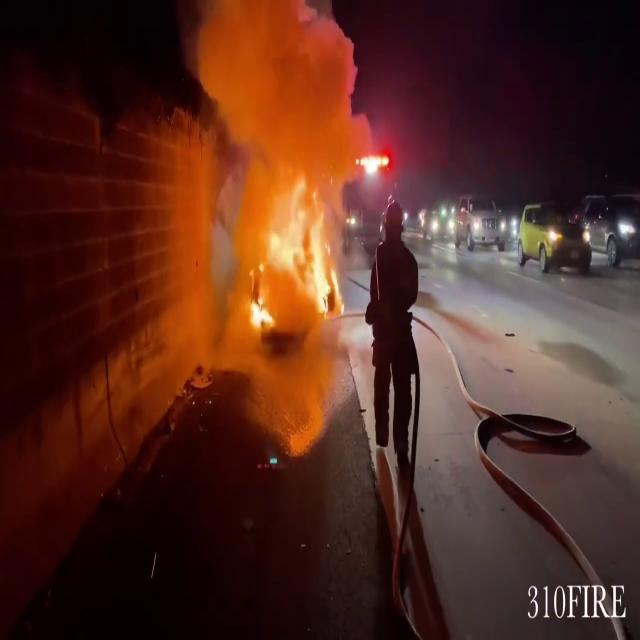Fire: (243, 176, 344, 336), (357, 144, 392, 182)
Smoke: (188, 0, 366, 184)
